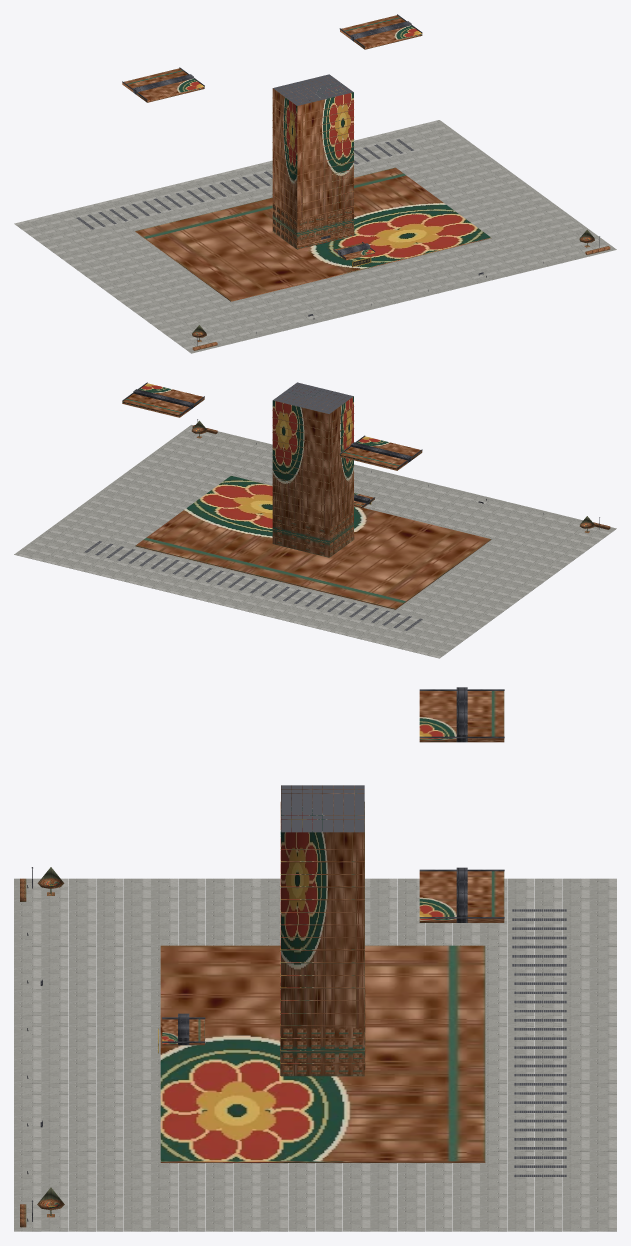
3 renders of one model, top to bottom at view 1: azimuth 30°, elevation 25°; view 2: azimuth 150°, elevation 25°; view 3: azimuth 270°, elevation 25°, orthographic. The views are drawn at different scales.
Parts seen in each view (by area): view 1: 11710_01_05768_044_01__plinth_ground_base, 11710_01_05768_044_02__mass_body_facade, 11710_01_05768_044_03__roof_deck_structure, 11710_01_05768_044_03__roof_metal_ornament, 11710_01_05768_044_05__window_sash_glass, 11710_01_05768_044_06__landscape_greenery; view 2: 11710_01_05768_044_01__plinth_ground_base, 11710_01_05768_044_02__mass_body_facade, 11710_01_05768_044_03__roof_deck_structure, 11710_01_05768_044_03__roof_metal_ornament, 11710_01_05768_044_06__landscape_greenery; view 3: 11710_01_05768_044_01__plinth_ground_base, 11710_01_05768_044_02__mass_body_facade, 11710_01_05768_044_03__roof_deck_structure, 11710_01_05768_044_03__roof_metal_ornament, 11710_01_05768_044_06__landscape_greenery.
Part boxes in pixels (x1,y1,x2,y2): 11710_01_05768_044_01__plinth_ground_base: [14, 120, 616, 353]; 11710_01_05768_044_02__mass_body_facade: [122, 15, 490, 301]; 11710_01_05768_044_03__roof_deck_structure: [76, 74, 413, 229]; 11710_01_05768_044_03__roof_metal_ornament: [122, 14, 422, 258]; 11710_01_05768_044_05__window_sash_glass: [299, 208, 351, 244]; 11710_01_05768_044_06__landscape_greenery: [192, 229, 610, 350]; 11710_01_05768_044_01__plinth_ground_base: [14, 425, 616, 658]; 11710_01_05768_044_02__mass_body_facade: [122, 383, 491, 609]; 11710_01_05768_044_03__roof_deck_structure: [84, 382, 422, 630]; 11710_01_05768_044_03__roof_metal_ornament: [122, 382, 422, 506]; 11710_01_05768_044_06__landscape_greenery: [191, 420, 610, 532]; 11710_01_05768_044_01__plinth_ground_base: [14, 878, 616, 1231]; 11710_01_05768_044_02__mass_body_facade: [160, 691, 504, 1162]; 11710_01_05768_044_03__roof_deck_structure: [281, 785, 566, 1176]; 11710_01_05768_044_03__roof_metal_ornament: [162, 687, 504, 1045]; 11710_01_05768_044_06__landscape_greenery: [20, 867, 64, 1227].
Bounding box in the file's own units: 180 × 60.4 × 130.
7 materials, 7 textured.
